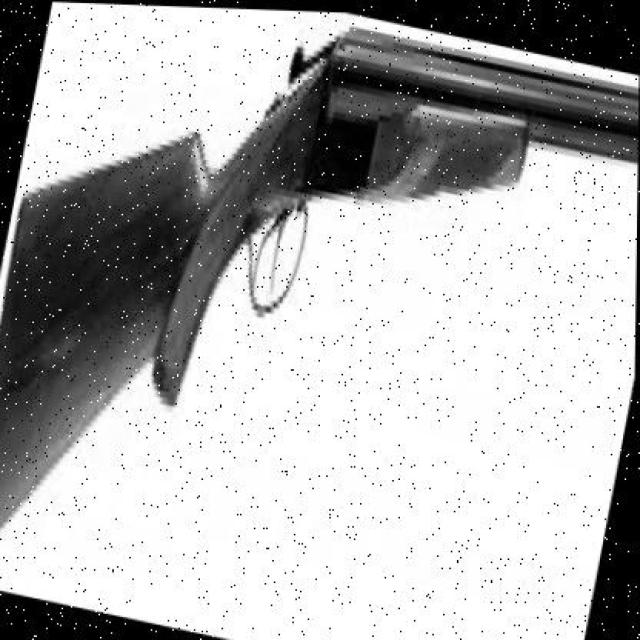weapon: (1, 27, 640, 530)
